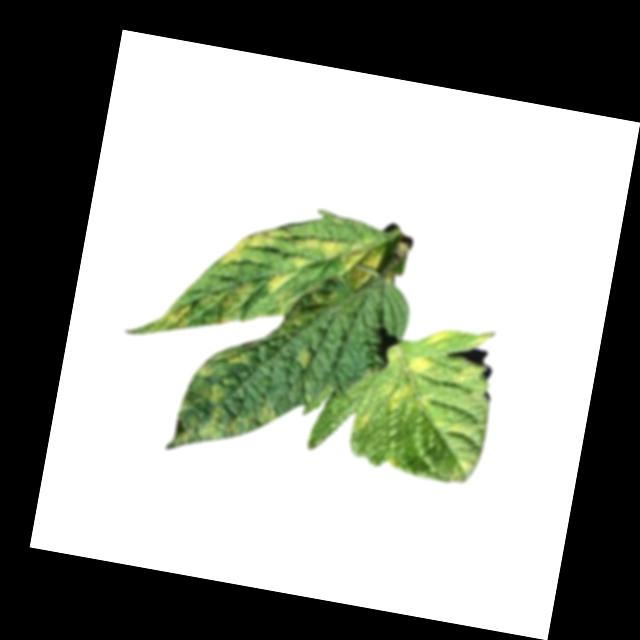Leaf_Mold: (171, 334, 295, 468), (296, 229, 387, 287), (375, 347, 442, 423), (216, 221, 275, 276), (216, 277, 254, 328), (159, 296, 196, 332), (452, 358, 488, 391), (265, 269, 296, 300), (350, 408, 377, 437), (294, 346, 322, 372)
